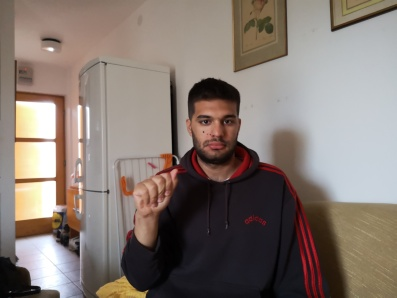A: (131, 168, 183, 216)
